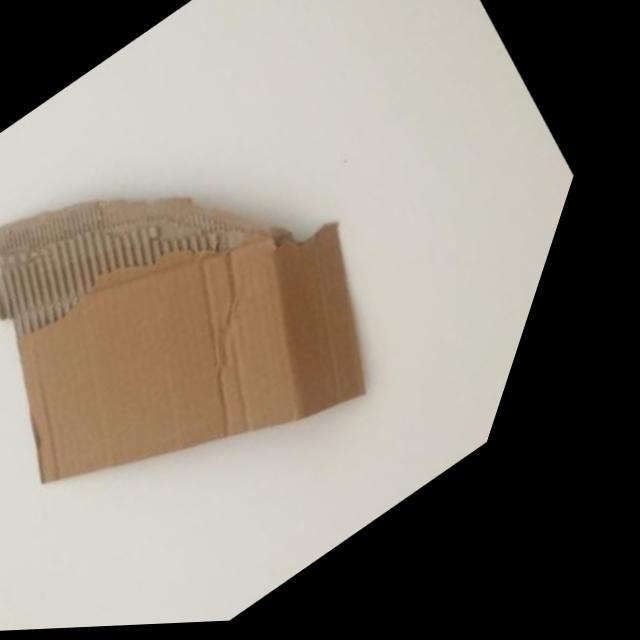cardboard: (0, 25, 546, 621)
